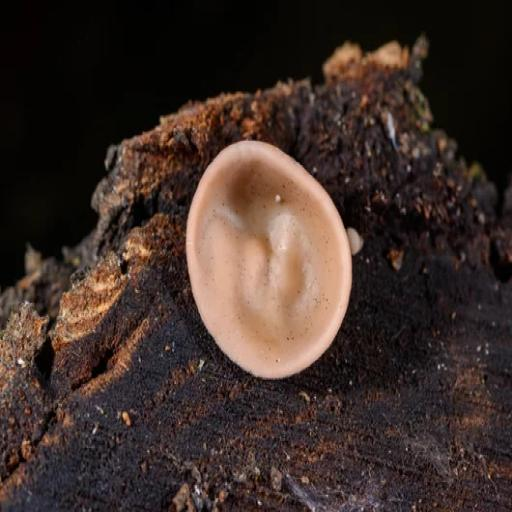mushroom: (184, 134, 360, 389)
